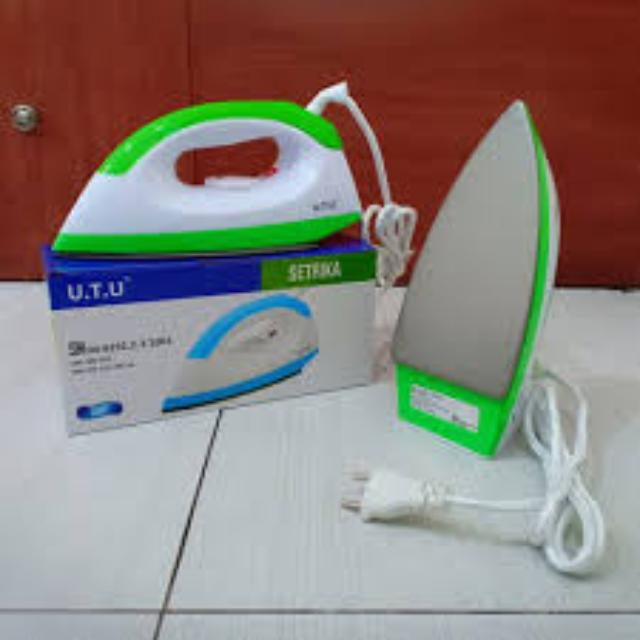Clothes-Iron: (90, 62, 382, 258)
